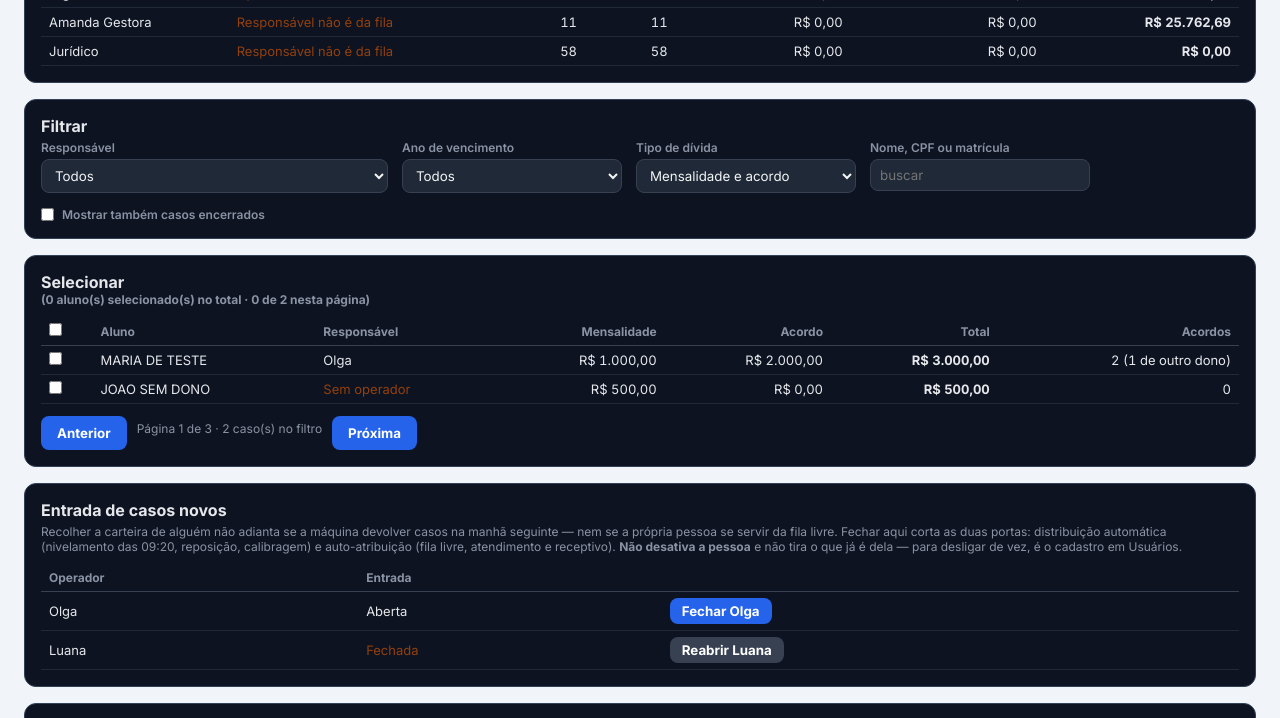
Test: Carteira Geral — remanejamento › mostra os conflitos agrupados e o que não muda
(page scrolled)
Expected: the text "MARIA DE TESTE" is shown, [92,346,315,374]
Click the checkbox named "Selecionar MARIA DE TESTE".
click(56, 358)  # box [49,352,62,365]
(page scrolled)
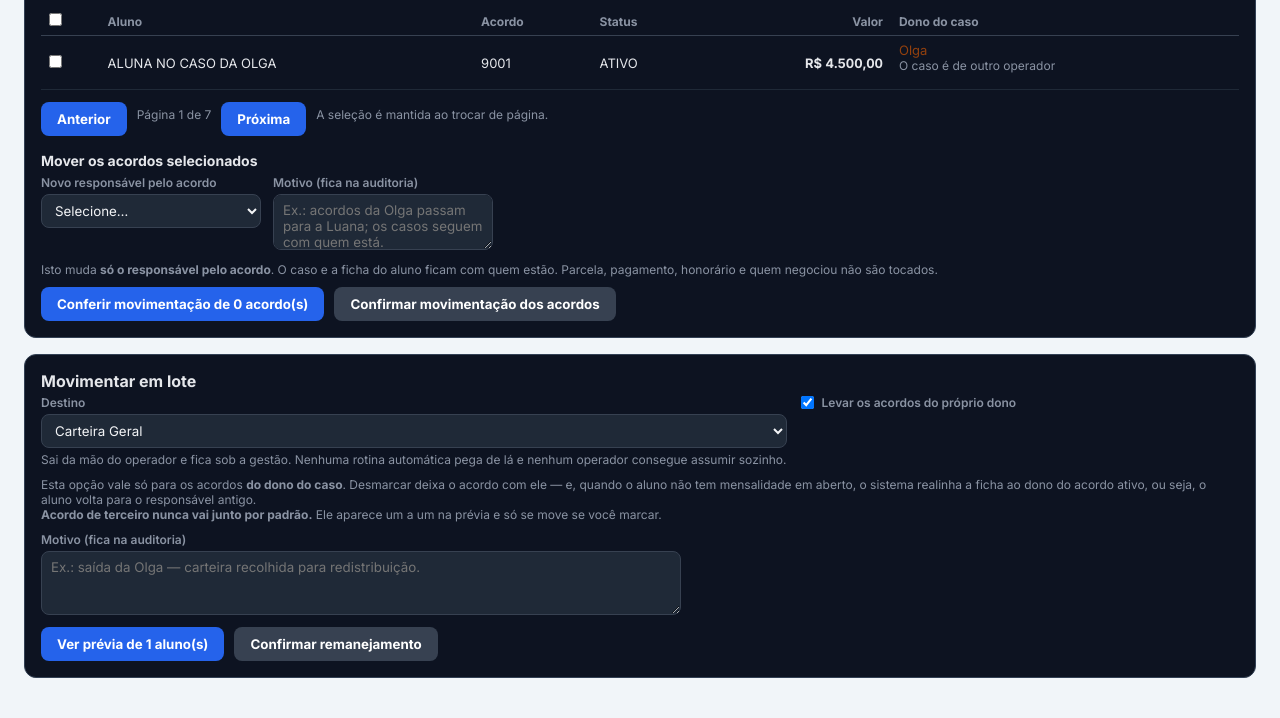
Click the button "Ver prévia de 1 aluno(s)".
click(133, 644)  # box [41,627,224,661]
(page scrolled)
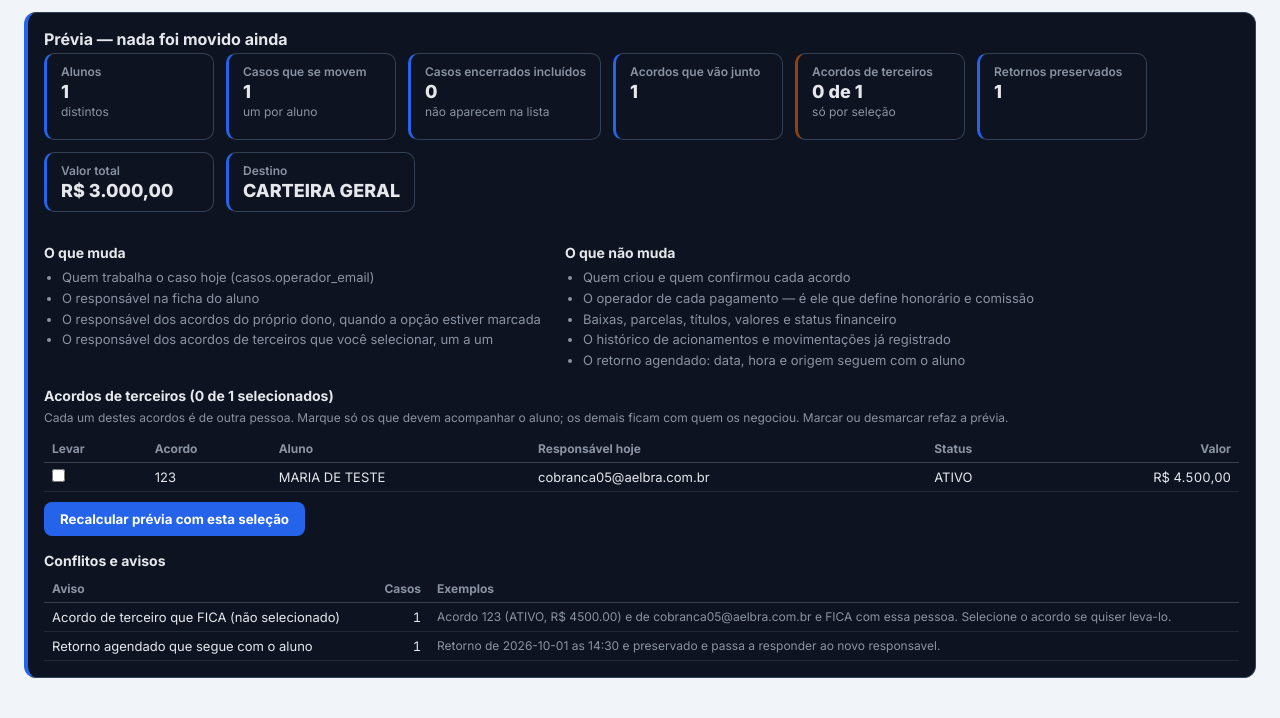
Expected: the text "Retorno agendado que segue com o aluno" is shown, [44,632,372,660]
Expected: the list item "O operador de cada pagamento — é ele que define honorário e comissão" is shown, [583,288,1034,309]
Expected: the list item "O retorno agendado: data, hora e origem seguem com o aluno" is shown, [583,352,965,368]
